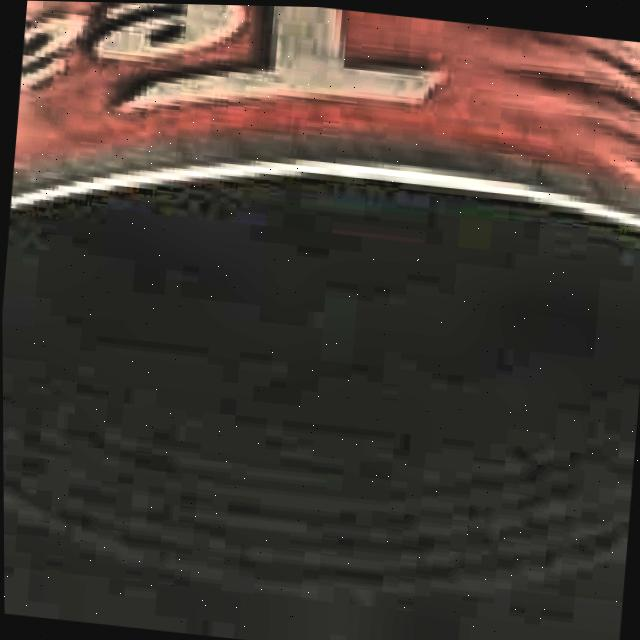metal: (2, 0, 640, 640)
